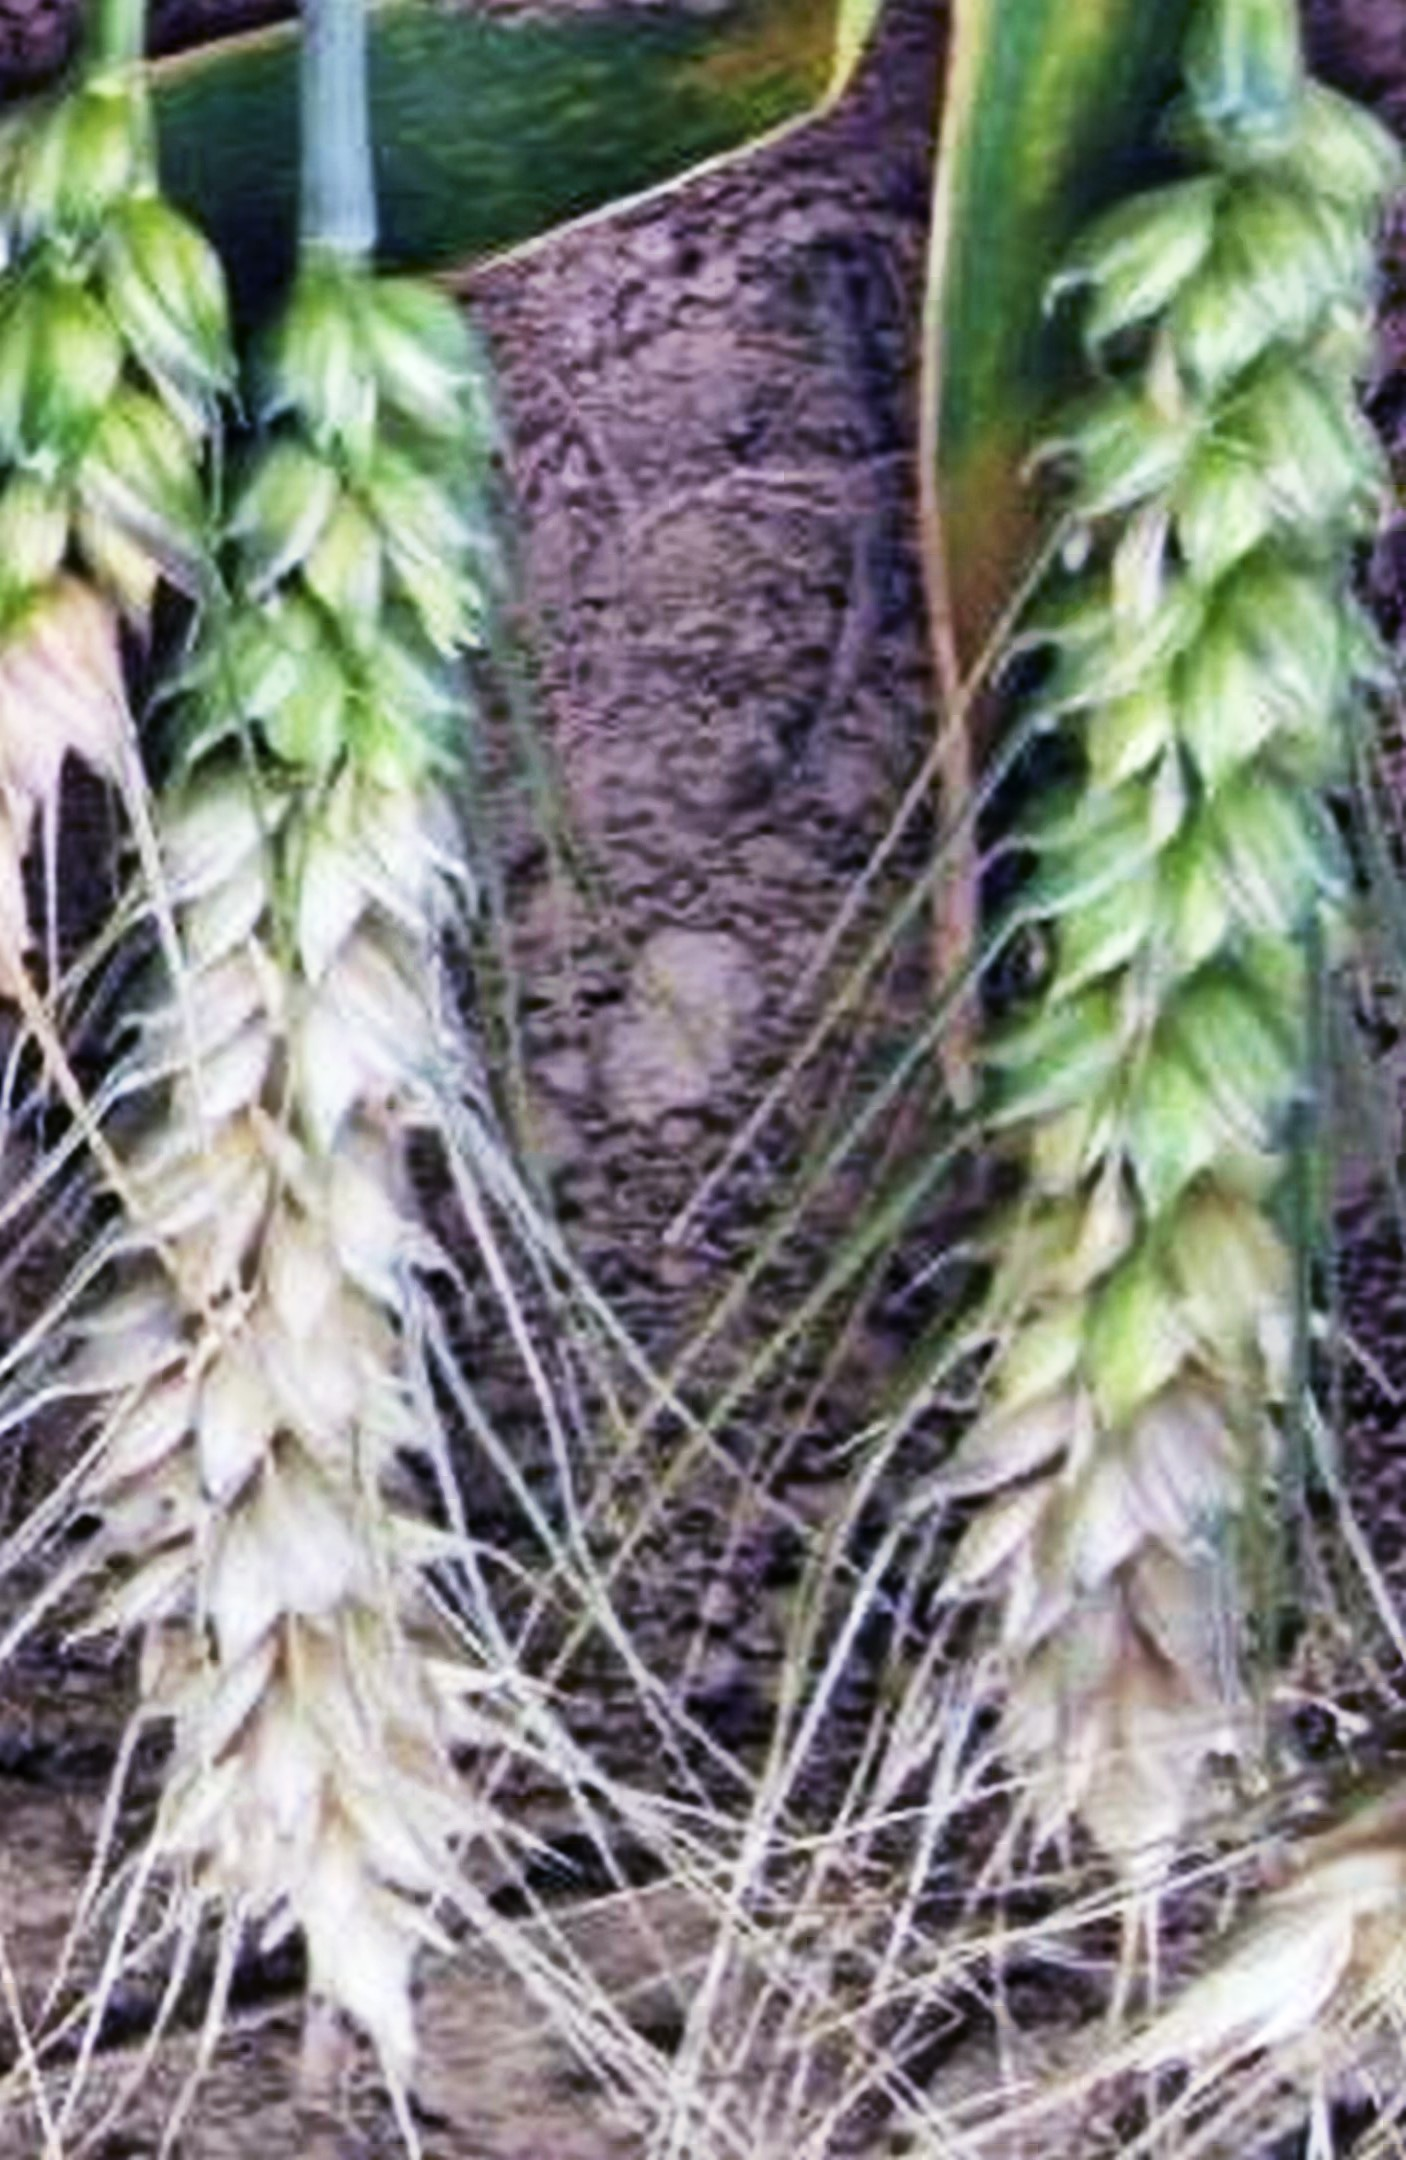Wheat scab: (50, 253, 567, 2039), (916, 80, 1406, 1896)
